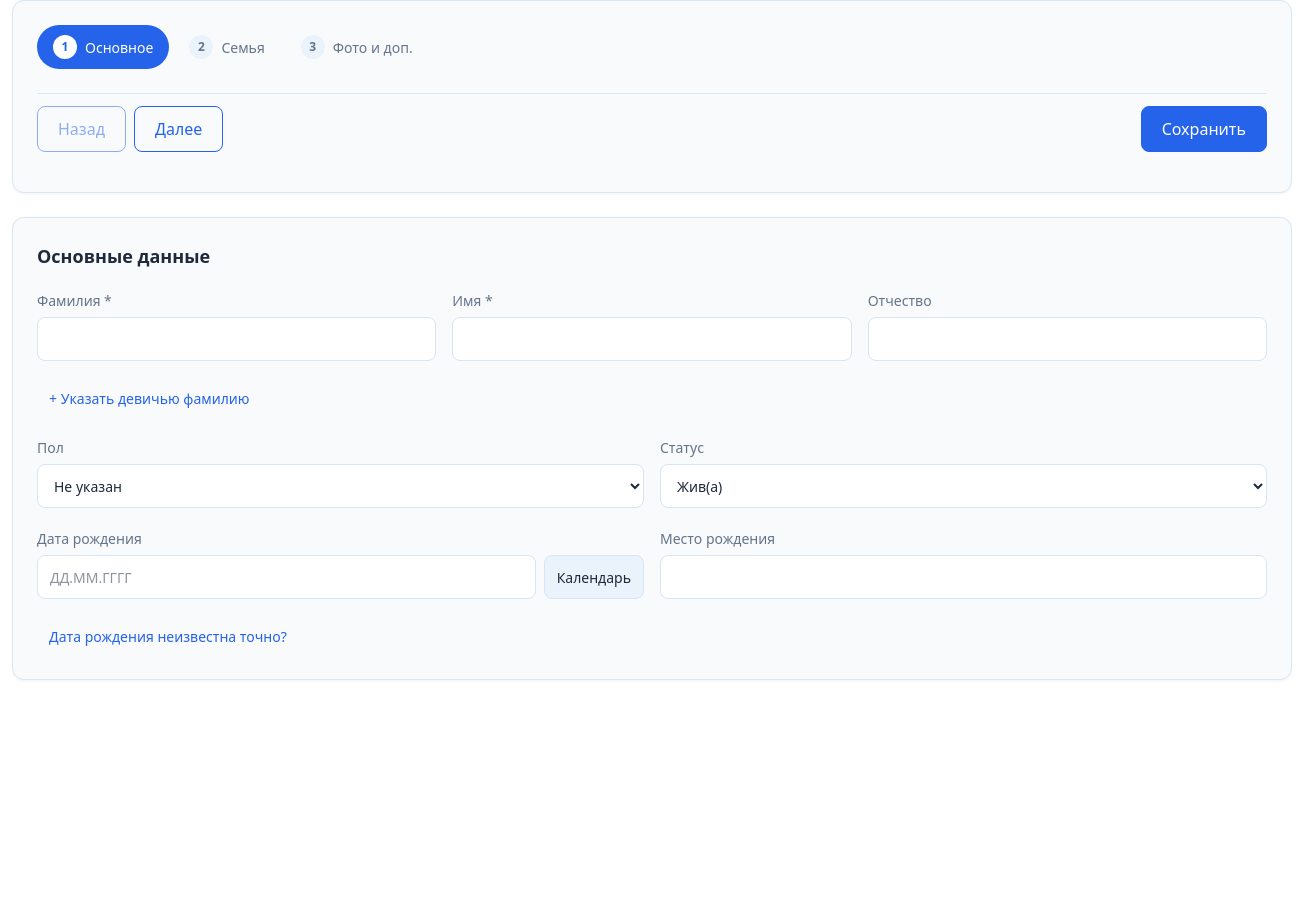
PersonForm - optional photo submission › renders photo input as a plain optional file input
Click the button "3 Фото и доп." at [357, 47], box [285,25,429,69]
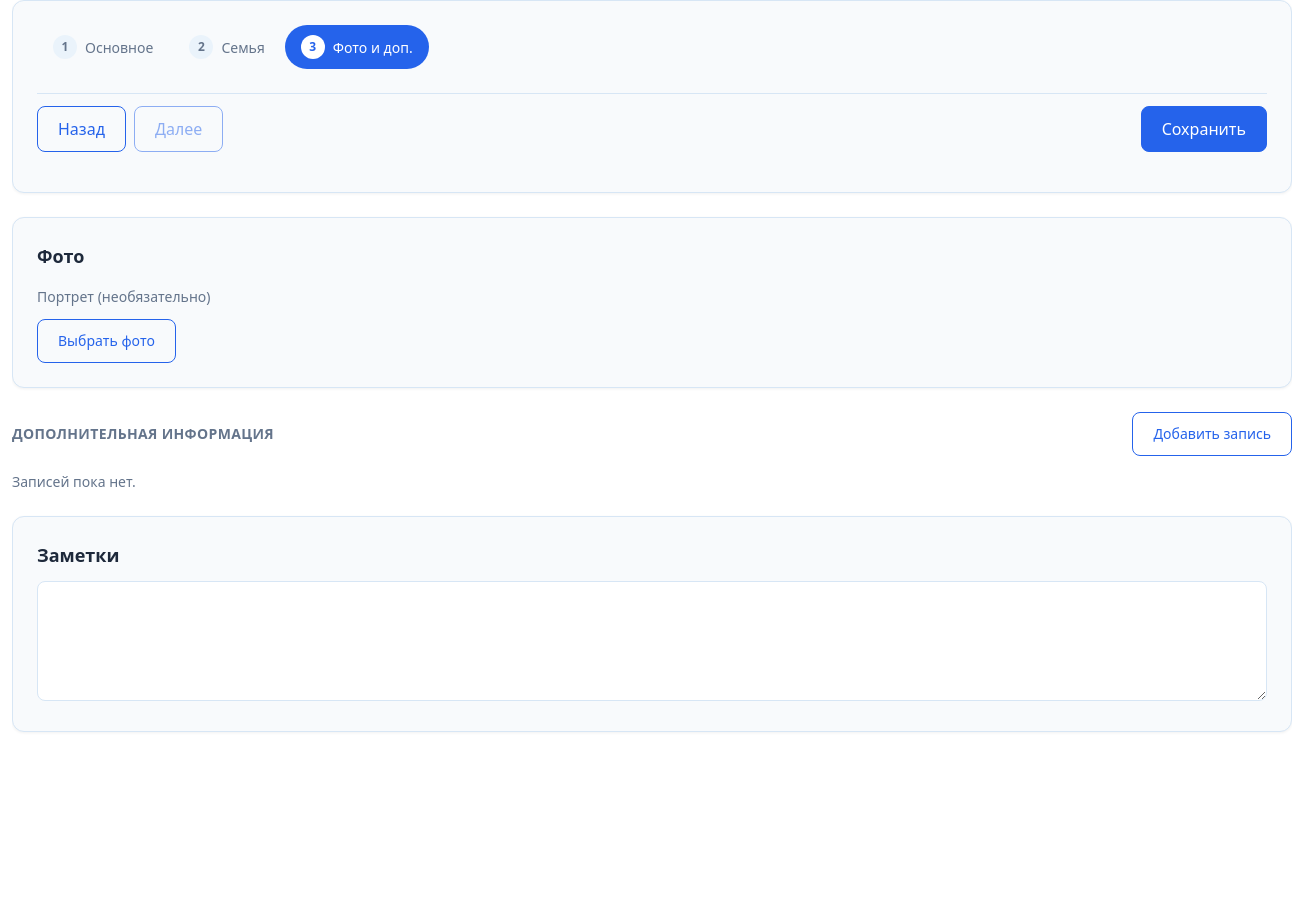
Check: the element showing "Портрет (необязательно) Выбрать фото" is shown, box [37,287,210,363]
